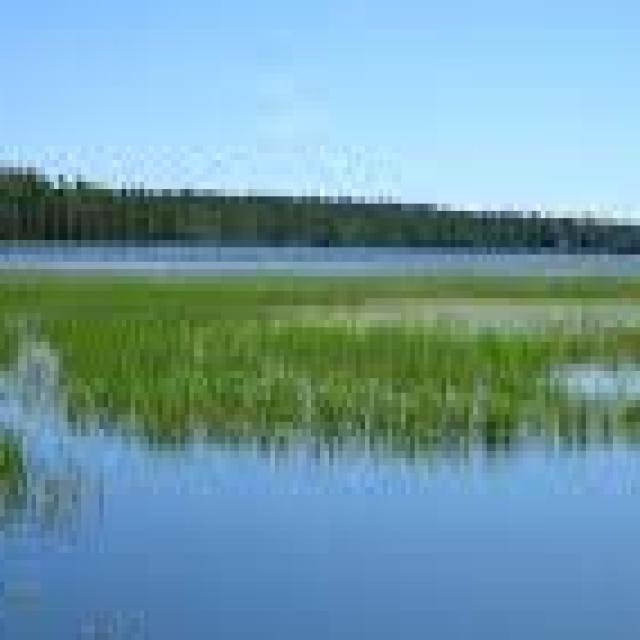-: (94, 465, 640, 639), (225, 436, 640, 640)
